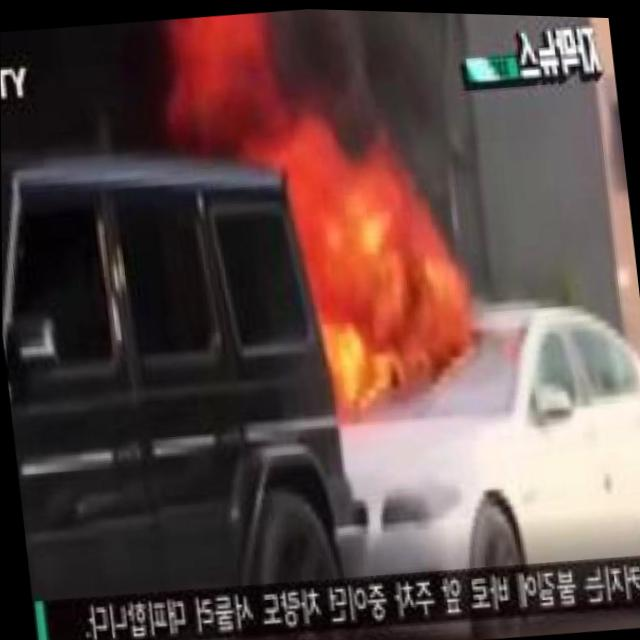Fire: (271, 85, 454, 421)
